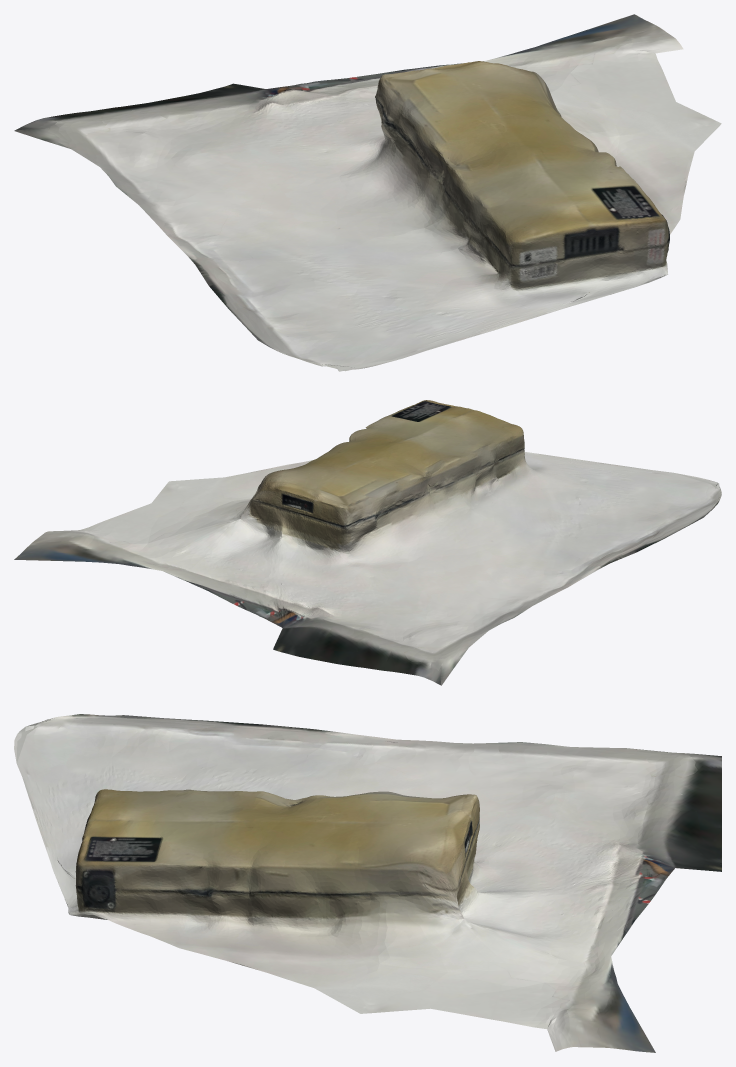
3 renders of one model, top to bottom at view 1: azimuth 30°, elevation 25°; view 2: azimuth 150°, elevation 25°; view 3: azimuth 270°, elevation 25°, orthographic. The views are drawn at different scales.
Bounding box in the file's own units: 0.5471 × 0.0765 × 0.5152.
Materials: 1 (1 with a texture image).
